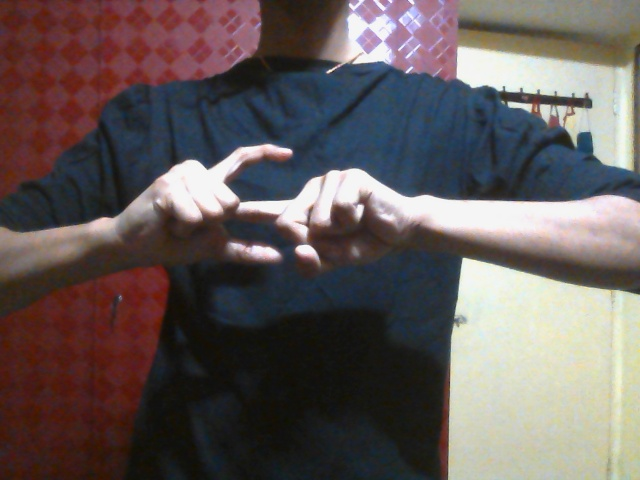E: (142, 143, 410, 286)
